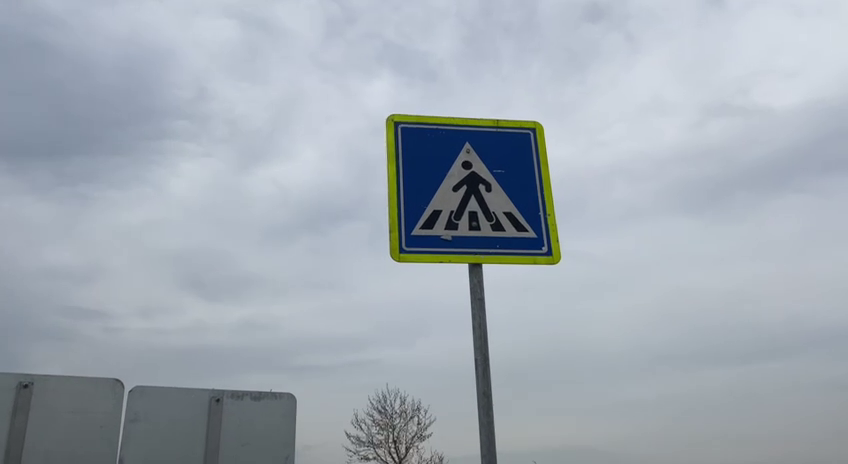pedestrianCrossing: (384, 110, 562, 268)
